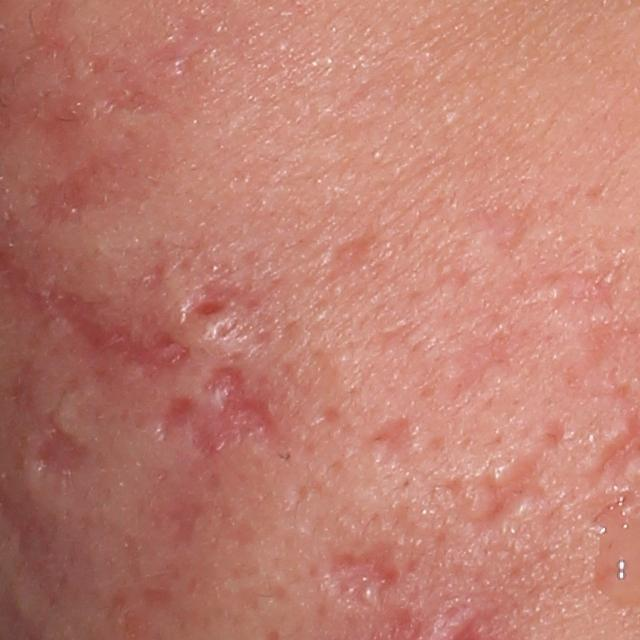atrophic_scar: (46, 285, 193, 382), (152, 357, 285, 463), (449, 419, 569, 532), (417, 323, 532, 414), (9, 362, 95, 481), (85, 51, 165, 124), (323, 539, 401, 599), (466, 201, 546, 254), (319, 229, 382, 291), (366, 415, 408, 472), (177, 296, 234, 320)
hypertrophic_scar: (491, 460, 516, 489)
